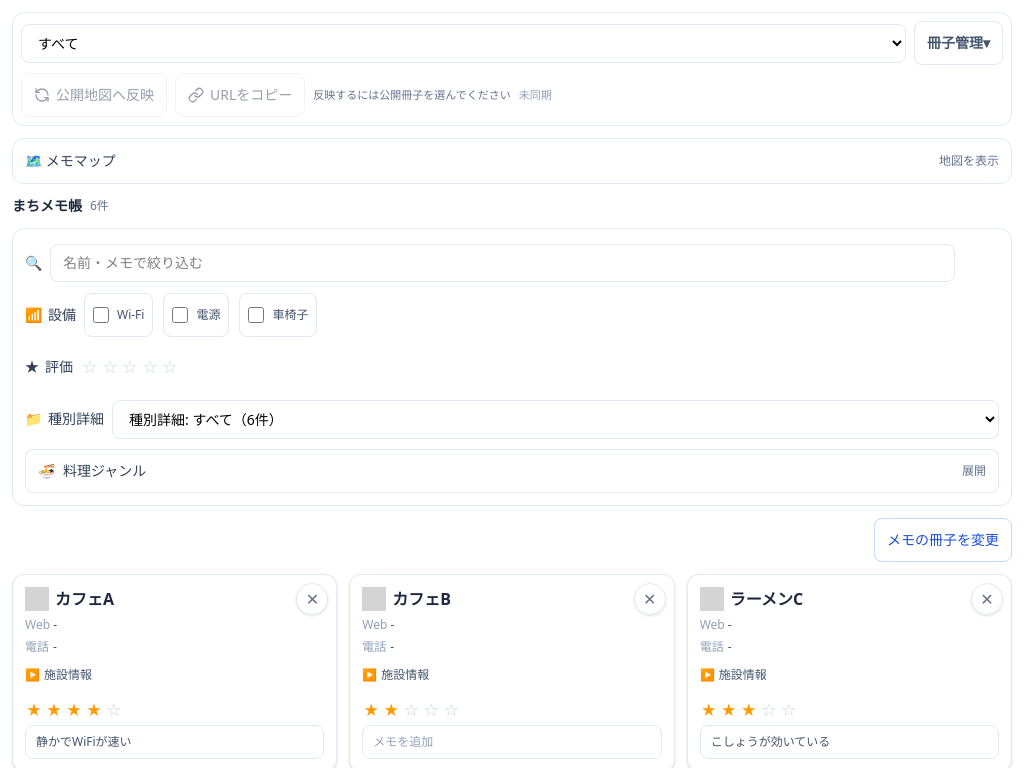
Test: MemochoSection: フィルタバー › ★評価: 星5を押すと実質「★5のみ」で絞り込み、別の星を押すとその条件に切り替わる
# ★5 を押す → 5星が全て灯り（カードと同じ見た目）、寿司D（rating 5）だけ残る
What coordinates should you click on to do the following:
click the button named "★5のみで絞り込む"
I would click on:
 (170, 367)
Its box is [161, 358, 179, 376].
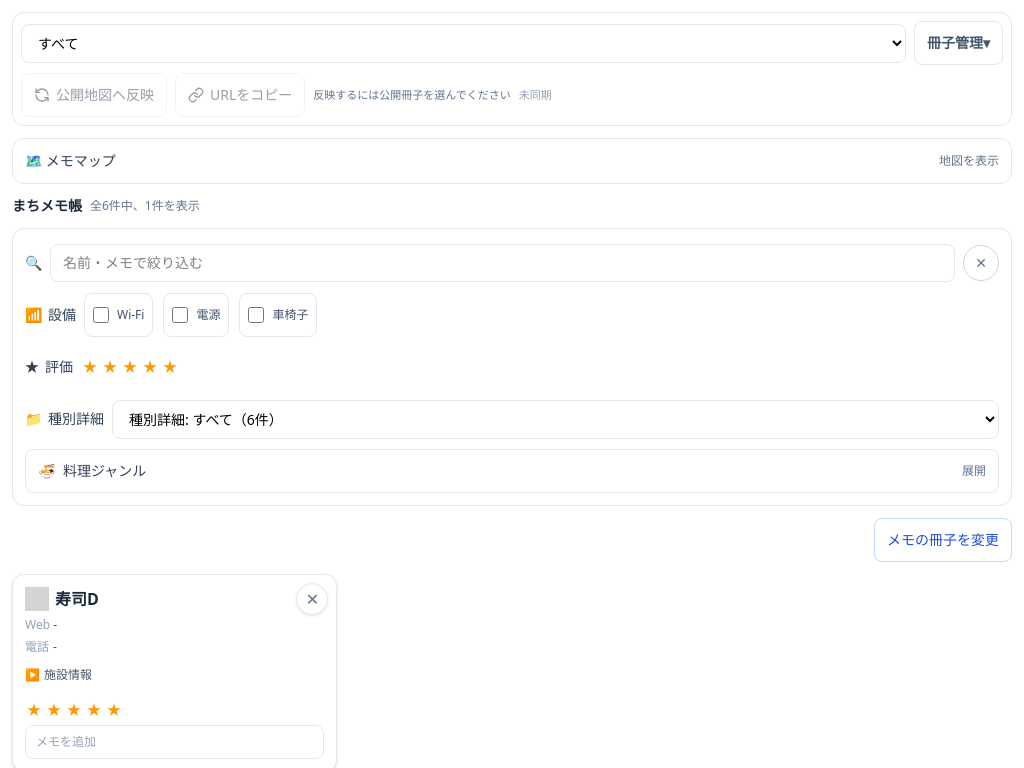
Expected: the button named "★1以上で絞り込む" reads "★", [81, 358, 99, 376]
Expected: the button named "★2以上で絞り込む" reads "★"
Expected: the button named "★3以上で絞り込む" reads "★", [121, 358, 139, 376]
What coordinates should you click on to do the following:
click the button named "★2以上で絞り込む"
I would click on:
 (110, 367)
Its box is [101, 358, 119, 376].
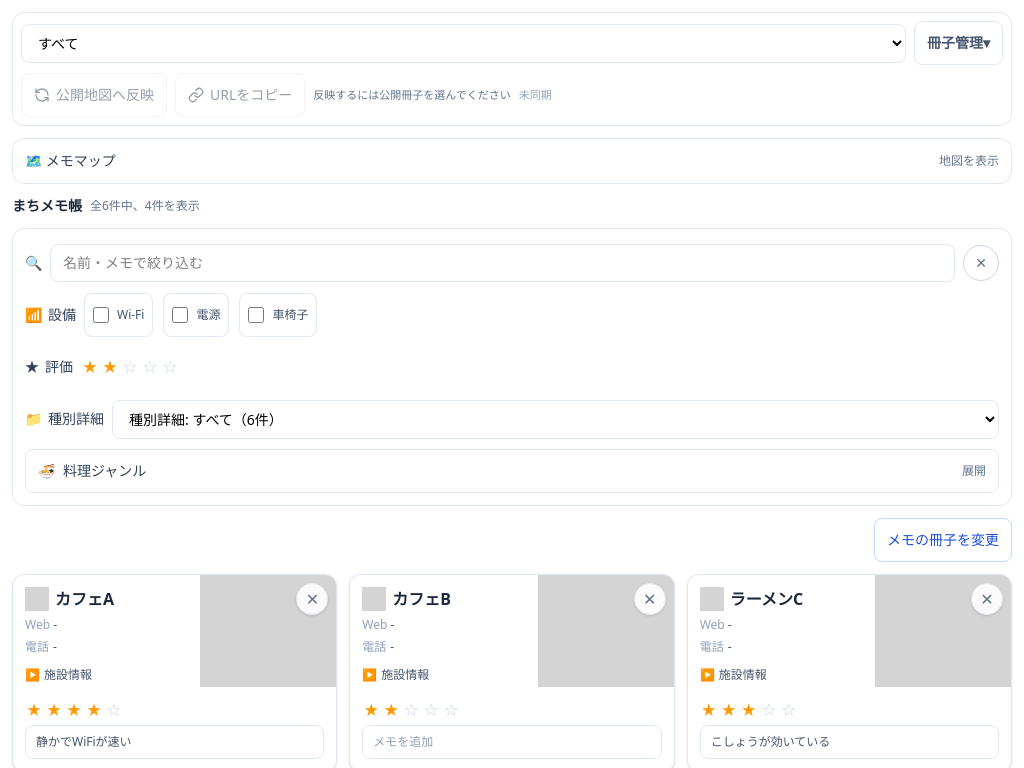
Expected: the button named "★1以上で絞り込む" reads "★", [81, 358, 99, 376]
Expected: the button named "★2以上で絞り込む" reads "★", [101, 358, 119, 376]
Expected: the button named "★3以上で絞り込む" reads "☆", [121, 358, 139, 376]
